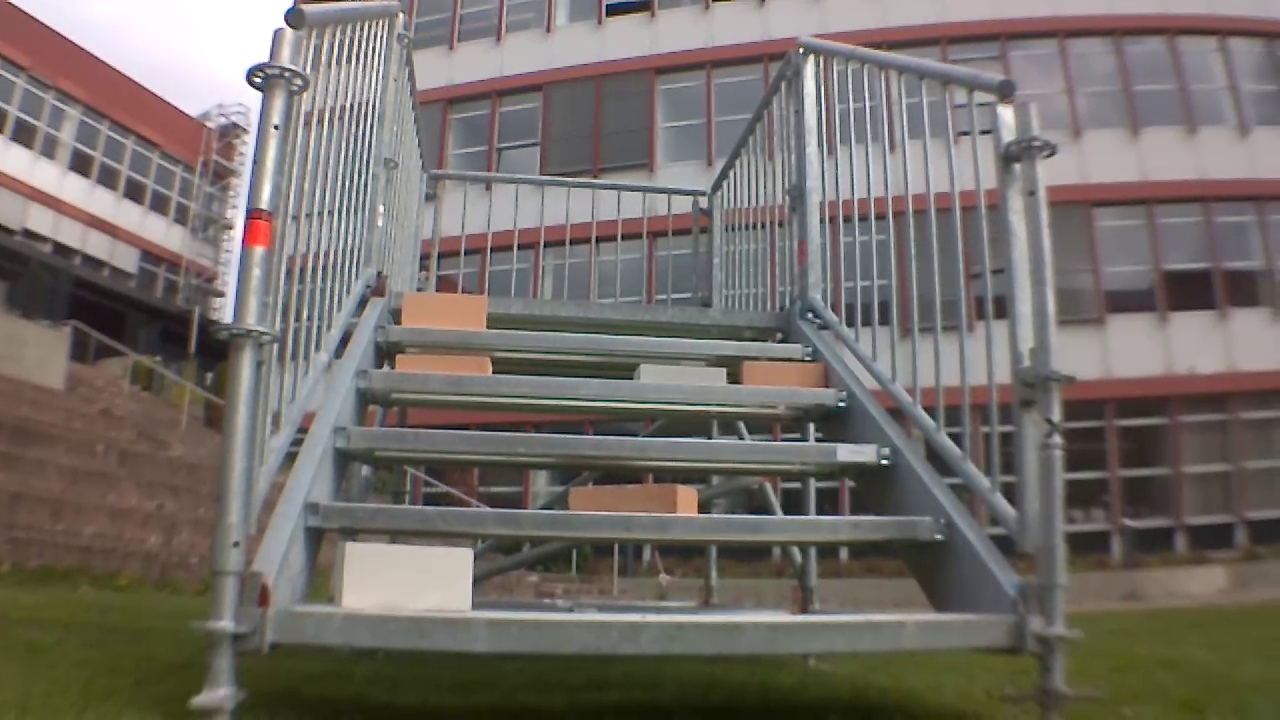brick: (332, 548, 473, 611), (563, 484, 700, 514), (394, 294, 488, 333), (739, 362, 831, 389), (393, 356, 490, 374), (630, 365, 727, 382)
edge: (277, 614, 1038, 648), (290, 505, 953, 541), (333, 426, 896, 466), (354, 374, 850, 410), (373, 323, 809, 360), (393, 298, 800, 312)
stairs: (221, 2, 1061, 693)
steps: (262, 297, 1023, 657)
